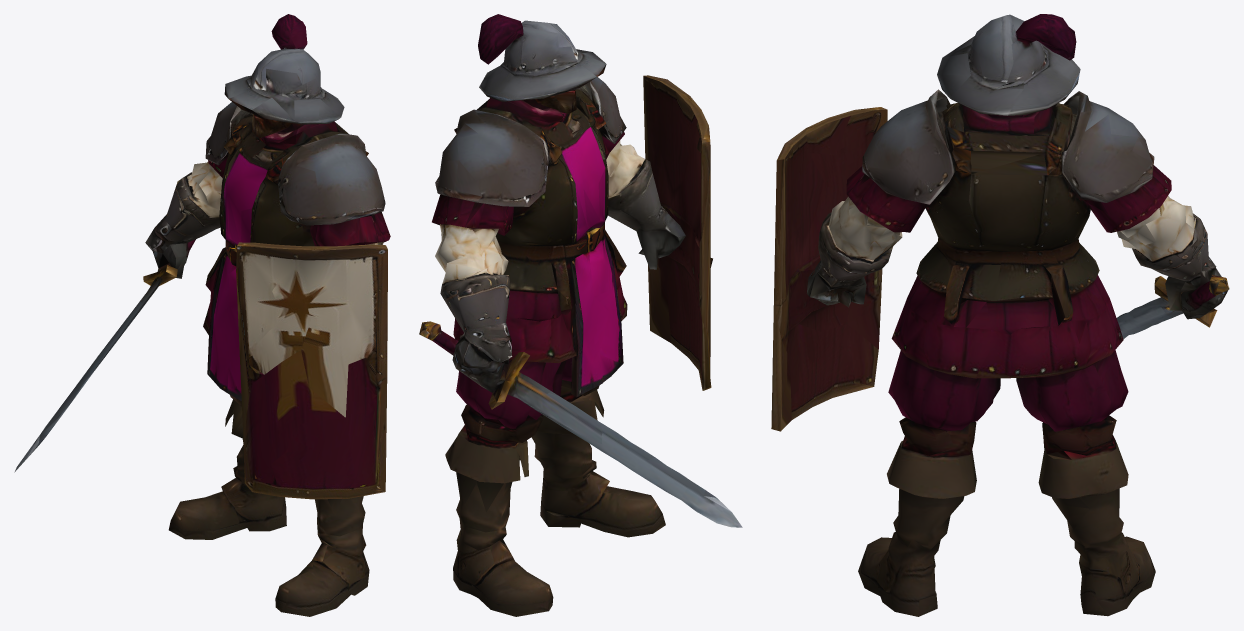
File: bakeoff_tripo_legacy_4k.glb
3 renders of one model, left to right at view 1: azimuth 30°, elevation 25°; view 2: azimuth 150°, elevation 25°; view 3: azimuth 270°, elevation 25°, orthographic. The views are drawn at different scales.
Parts seen in each view (by area): view 1: soldier_tripo_legacy; view 2: soldier_tripo_legacy; view 3: soldier_tripo_legacy.
Boxes of the visible parts, bbox=[...] form: soldier_tripo_legacy: bbox=[14, 14, 390, 616]; soldier_tripo_legacy: bbox=[419, 14, 742, 616]; soldier_tripo_legacy: bbox=[771, 14, 1229, 616].
Bounding box in the file's own units: 1.03 × 1.75 × 1.22.
1 material, 1 textured.
